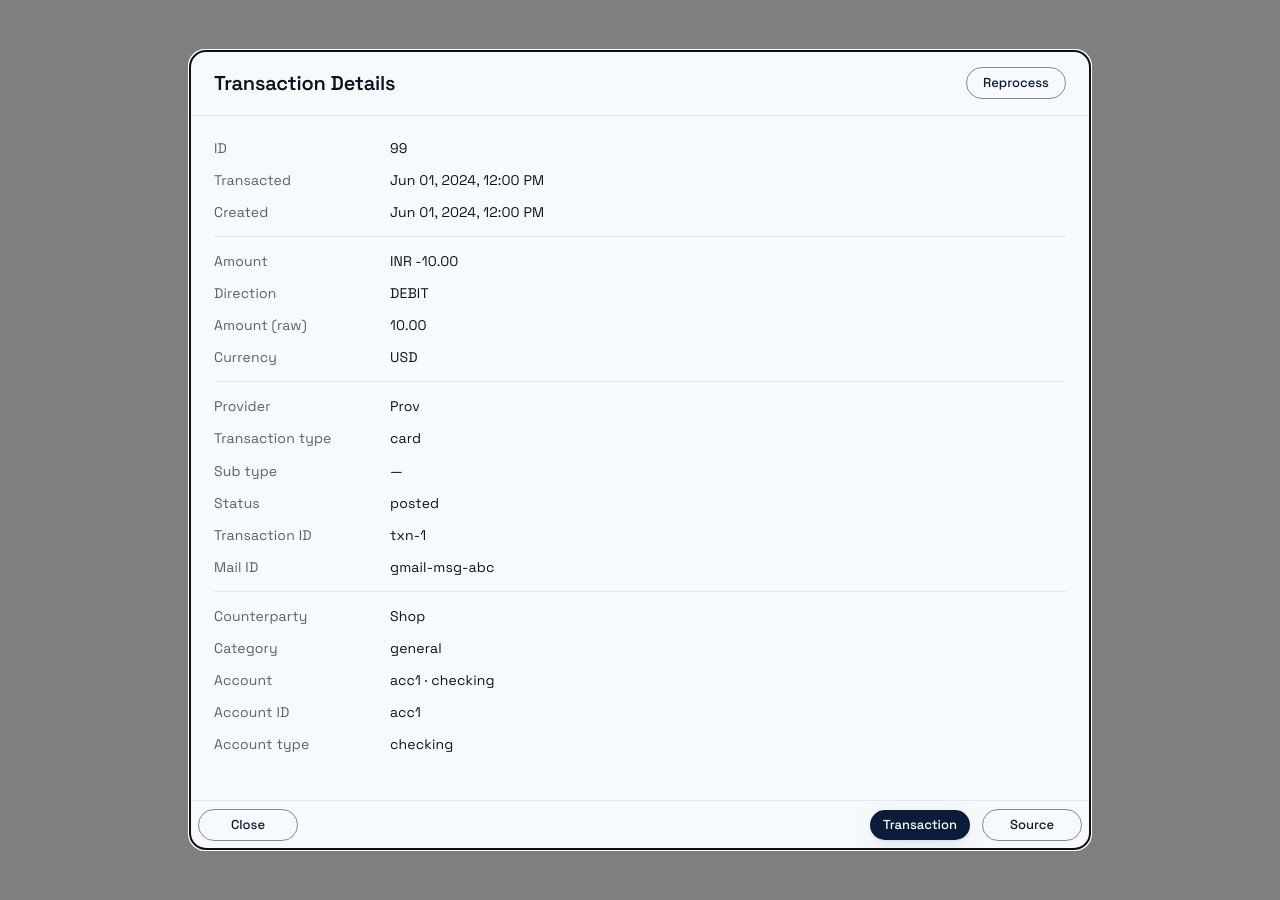
Test: TransactionDetailDialog › does not show Create parser when classification is not transaction alert
Click the button "Source" at (1032, 825), box 982,809 -> 1082,841
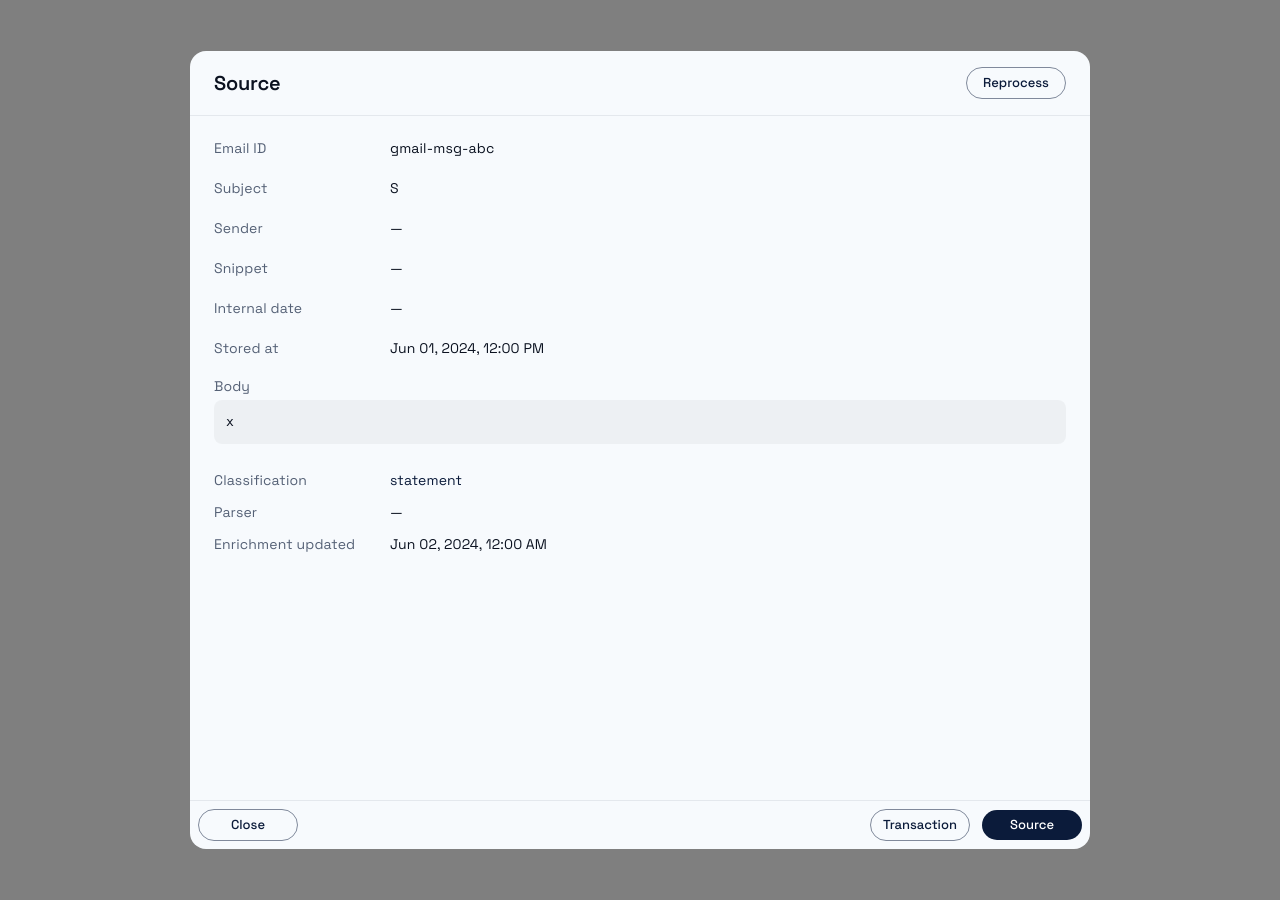
expect the link "statement" is shown: met, box 390,471 -> 462,489
